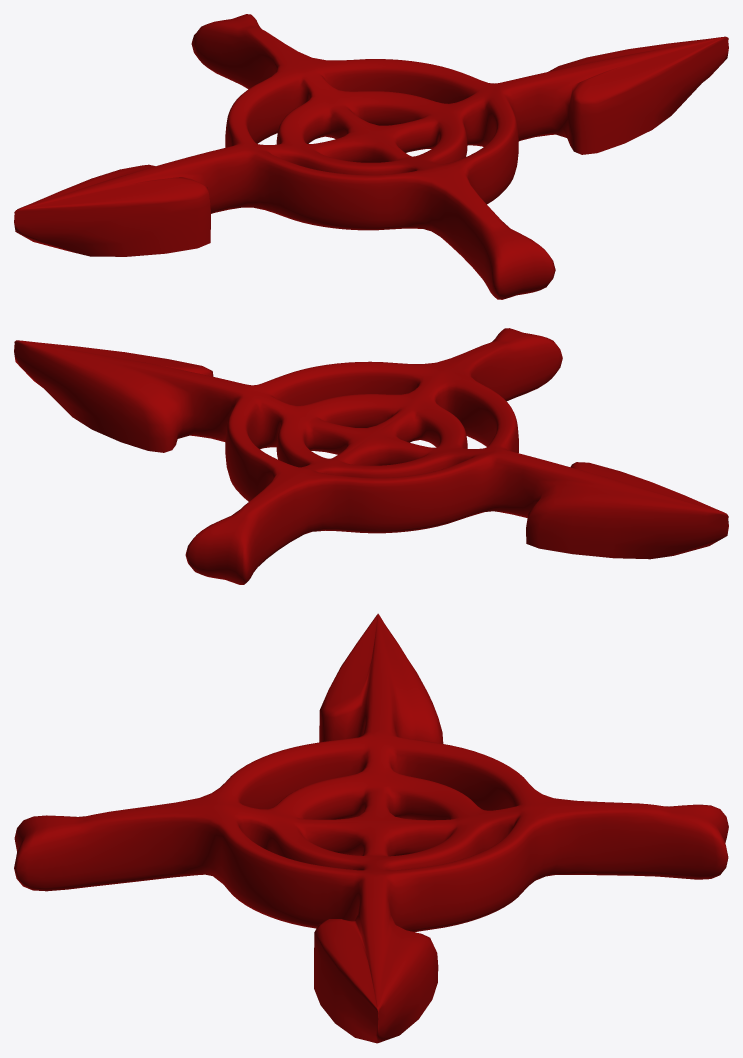
File: TARGET 3.fbx
3 views of the same model, one above another, from view 1: azimuth 30°, elevation 25°; view 2: azimuth 150°, elevation 25°; view 3: azimuth 270°, elevation 25° (orthographic). The views are drawn at different scales.
Visible parts, largest first — view 1: pCylinder3; view 2: pCylinder3; view 3: pCylinder3.
Boxes of the visible parts, left/top/right/bottom form: pCylinder3: left=14, top=14, right=728, bottom=299; pCylinder3: left=14, top=328, right=728, bottom=584; pCylinder3: left=14, top=613, right=728, bottom=1043.
Bounding box in the file's own units: 21.17 × 2.04 × 16.02.
